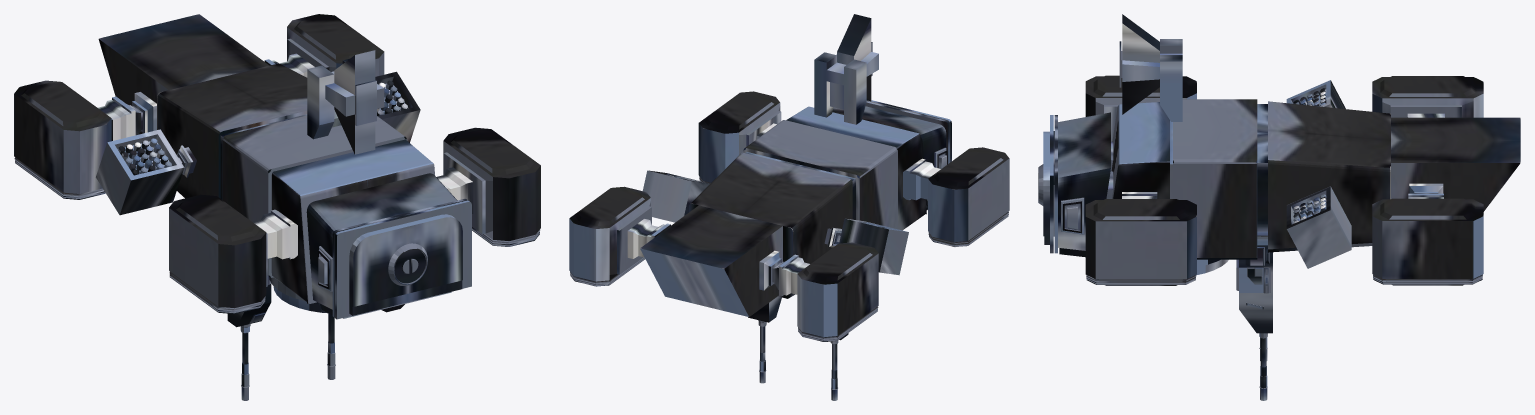
Rendered from Boss_GunShip.fbx.
The picture shows the model from 3 angles, left to right: view 1: azimuth 30°, elevation 25°; view 2: azimuth 150°, elevation 25°; view 3: azimuth 270°, elevation 25°; orthographic projection. The views are drawn at different scales.
Parts seen in each view (by area): view 1: Body, RocketPod, UnderCannonBody, UnderCannon, UnderCannonPivot; view 2: Body, UnderCannonBody, RocketPod, UnderCannon; view 3: Body, UnderCannonBody, RocketPod, UnderCannon.
Boxes of the visible parts, box(x1,y1,x2,y2) form: Body: box(14, 14, 540, 319); RocketPod: box(96, 71, 420, 215); UnderCannonBody: box(307, 50, 384, 154); UnderCannon: box(227, 276, 335, 400); UnderCannonPivot: box(269, 276, 327, 313); Body: box(569, 91, 1009, 341); UnderCannonBody: box(814, 14, 878, 124); RocketPod: box(642, 170, 908, 275); UnderCannon: box(748, 296, 848, 400); Body: box(1038, 75, 1520, 285); UnderCannonBody: box(1119, 14, 1182, 121); RocketPod: box(1286, 80, 1351, 268); UnderCannon: box(1236, 231, 1272, 400).
Size of the model in its own units: 5.35 by 6.22 by 7.52.
5 materials, 5 textured.
